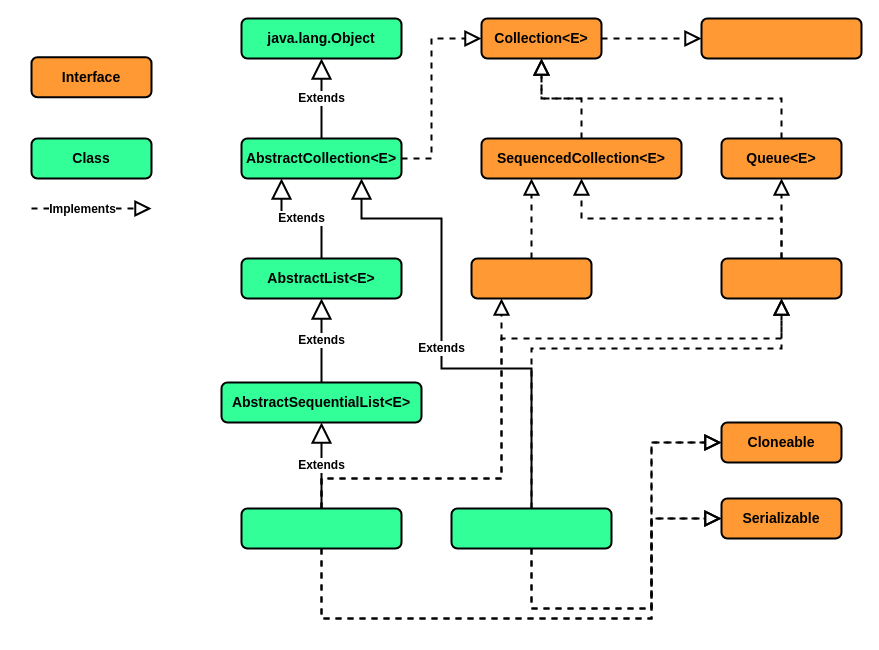
This 879x650 diagram has some shape labels left out. The shapes that lost their labels are listed below. From the top down, each one's box as (x1, y1, x2, y2) in pixels, then its label:
(700, 17, 862, 59): java.lang.Iterable<E>
(470, 257, 592, 299): List<E>
(720, 257, 842, 299): Deque<E>
(240, 507, 402, 549): LinkedList<E>
(450, 507, 612, 549): ArrayDeque<E>
